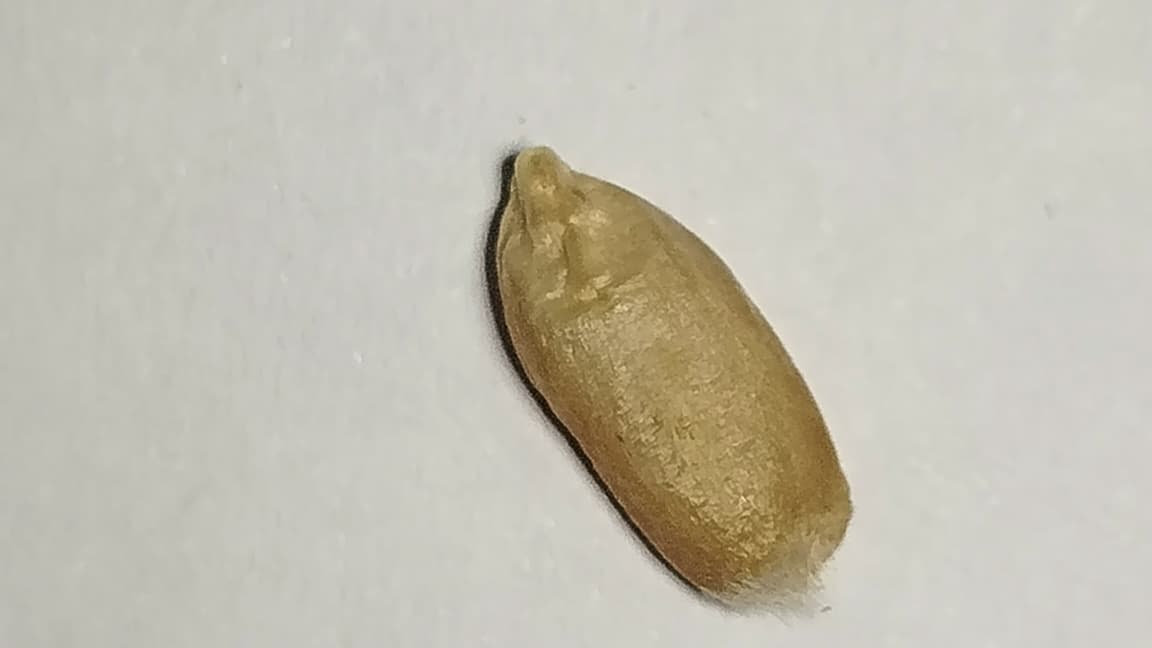healthy: (493, 148, 851, 595)
